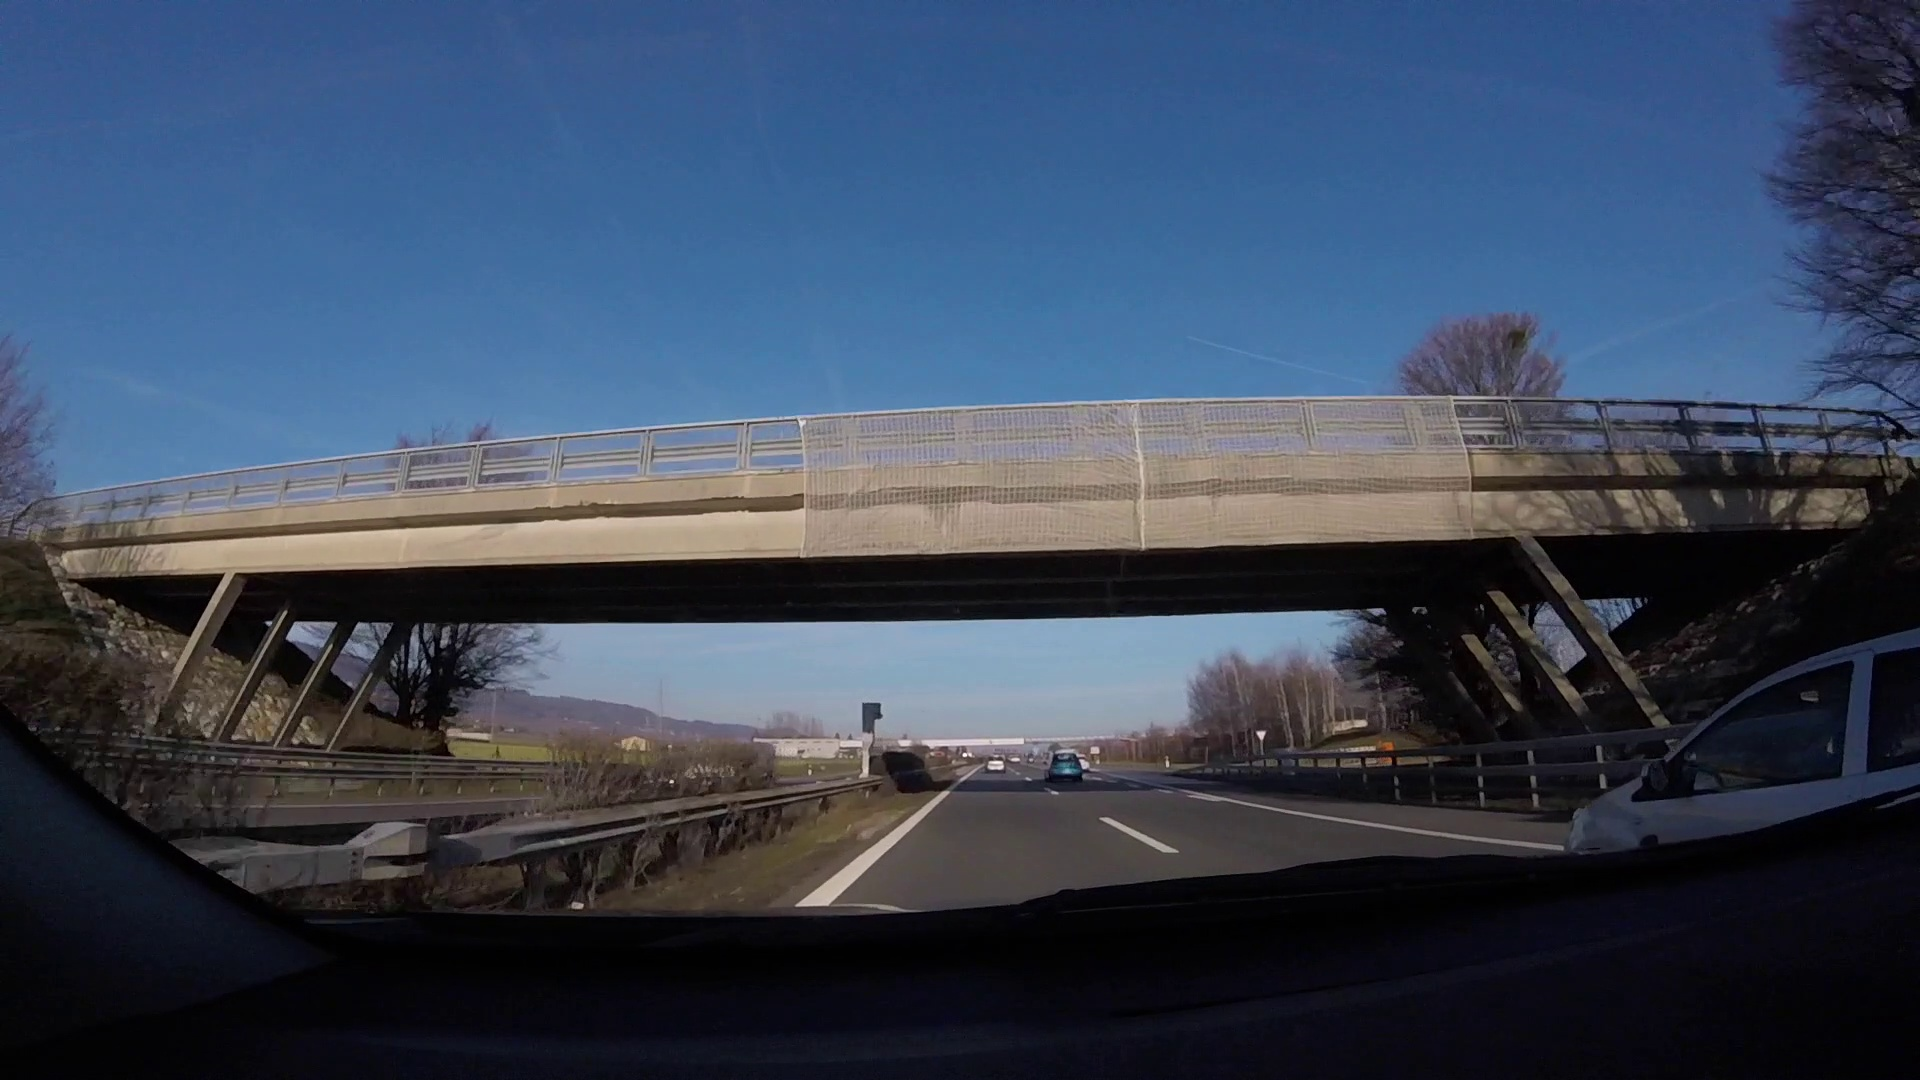radar: (860, 702, 885, 778)
